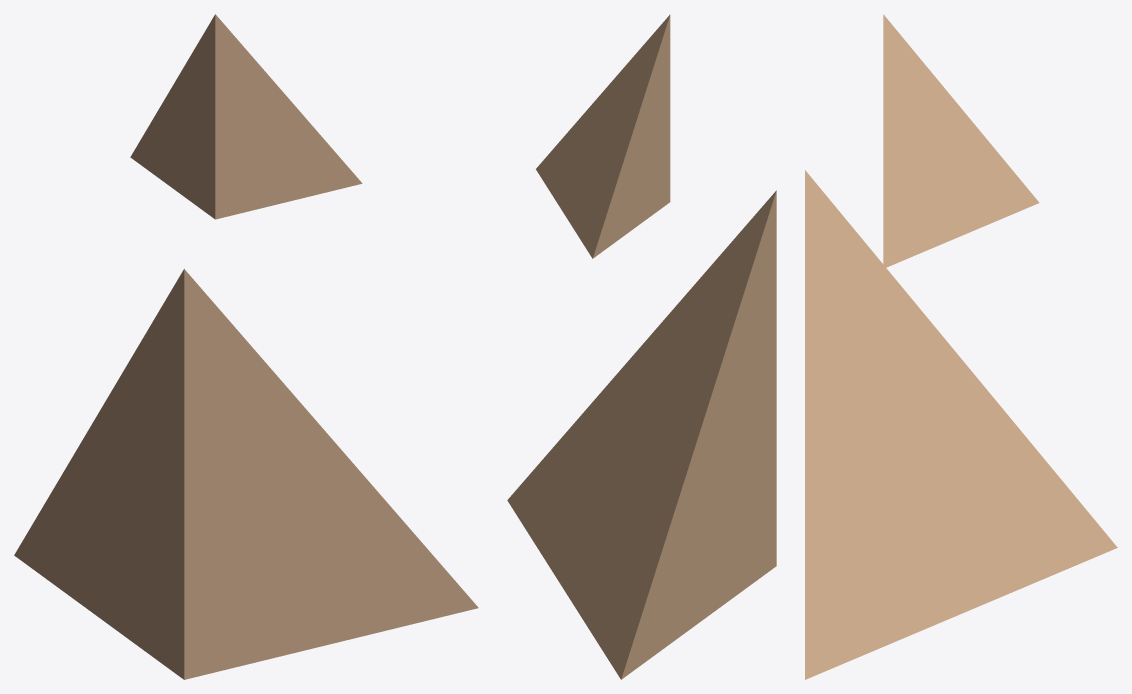
File: puppet.glb
The picture shows the model from 3 angles, left to right: view 1: azimuth 30°, elevation 25°; view 2: azimuth 150°, elevation 25°; view 3: azimuth 270°, elevation 25°; orthographic projection. The views are drawn at different scales.
Parts seen in each view (by area): view 1: Body, Head; view 2: Body, Head; view 3: Body, Head.
Boxes of the visible parts, x1,y1,x2,y2 form: Body: [14, 269, 478, 679]; Head: [130, 14, 362, 219]; Body: [507, 190, 776, 679]; Head: [536, 14, 670, 258]; Body: [805, 170, 1117, 679]; Head: [883, 14, 1039, 268].
Bounding box in the file's own units: 0.03 × 0.06 × 0.03.
